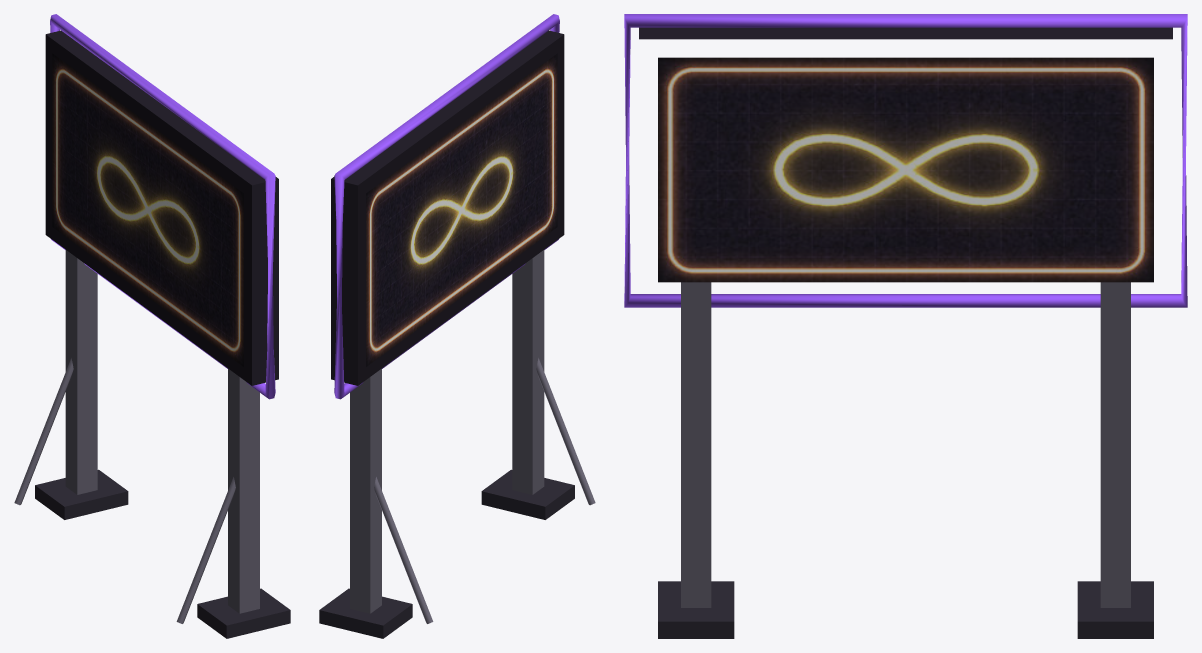
File: neon_sign_3.glb
3 views of the same model, side by side, from view 1: azimuth 30°, elevation 25°; view 2: azimuth 150°, elevation 25°; view 3: azimuth 270°, elevation 25° (orthographic). The views are drawn at different scales.
Visible parts, largest first — view 1: Frame, Lit_Sign, Neon_9b5cff; view 2: Frame, Lit_Sign, Neon_9b5cff; view 3: Lit_Sign, Frame, Neon_9b5cff.
Boxes of the visible parts, x1=… form: Frame: x1=14, y1=30, x2=290, y2=638; Lit_Sign: x1=52, y1=53, x2=243, y2=366; Neon_9b5cff: x1=50, y1=14, x2=275, y2=399; Frame: x1=319, y1=30, x2=595, y2=638; Lit_Sign: x1=366, y1=53, x2=557, y2=366; Neon_9b5cff: x1=334, y1=14, x2=559, y2=399; Lit_Sign: x1=658, y1=57, x2=1153, y2=282; Frame: x1=639, y1=27, x2=1172, y2=638; Neon_9b5cff: x1=624, y1=14, x2=1187, y2=307.
Size of the model in its own units: 0.7773 by 3.49 by 2.95.
3 materials, 1 textured.
